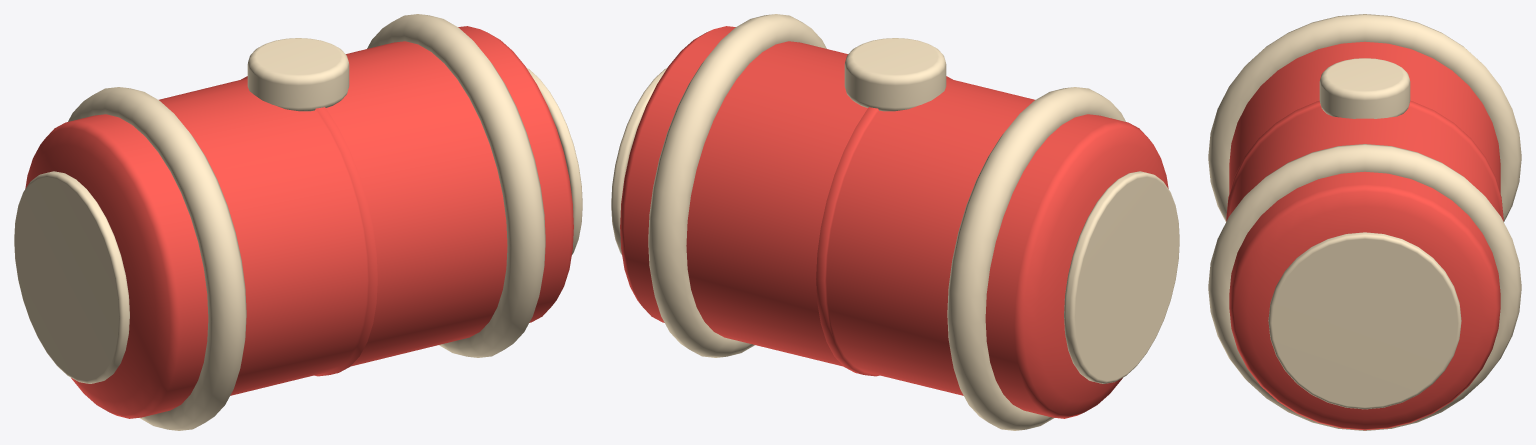
The model's file is MalletHead.obj.
The picture shows the model from 3 angles, left to right: view 1: azimuth 30°, elevation 25°; view 2: azimuth 150°, elevation 25°; view 3: azimuth 270°, elevation 25°; orthographic projection. The views are drawn at different scales.
Visible parts, largest first — view 1: Head, Bands; view 2: Head, Bands; view 3: Bands, Head.
Boxes of the visible parts, x1,y1,x2,y2 form: Head: (25, 26, 573, 418); Bands: (14, 14, 582, 430); Head: (620, 26, 1168, 418); Bands: (611, 14, 1179, 430); Bands: (1208, 14, 1521, 430); Head: (1226, 41, 1503, 430).
Size of the model in its own units: 7.9 by 5.3 by 5.2.
